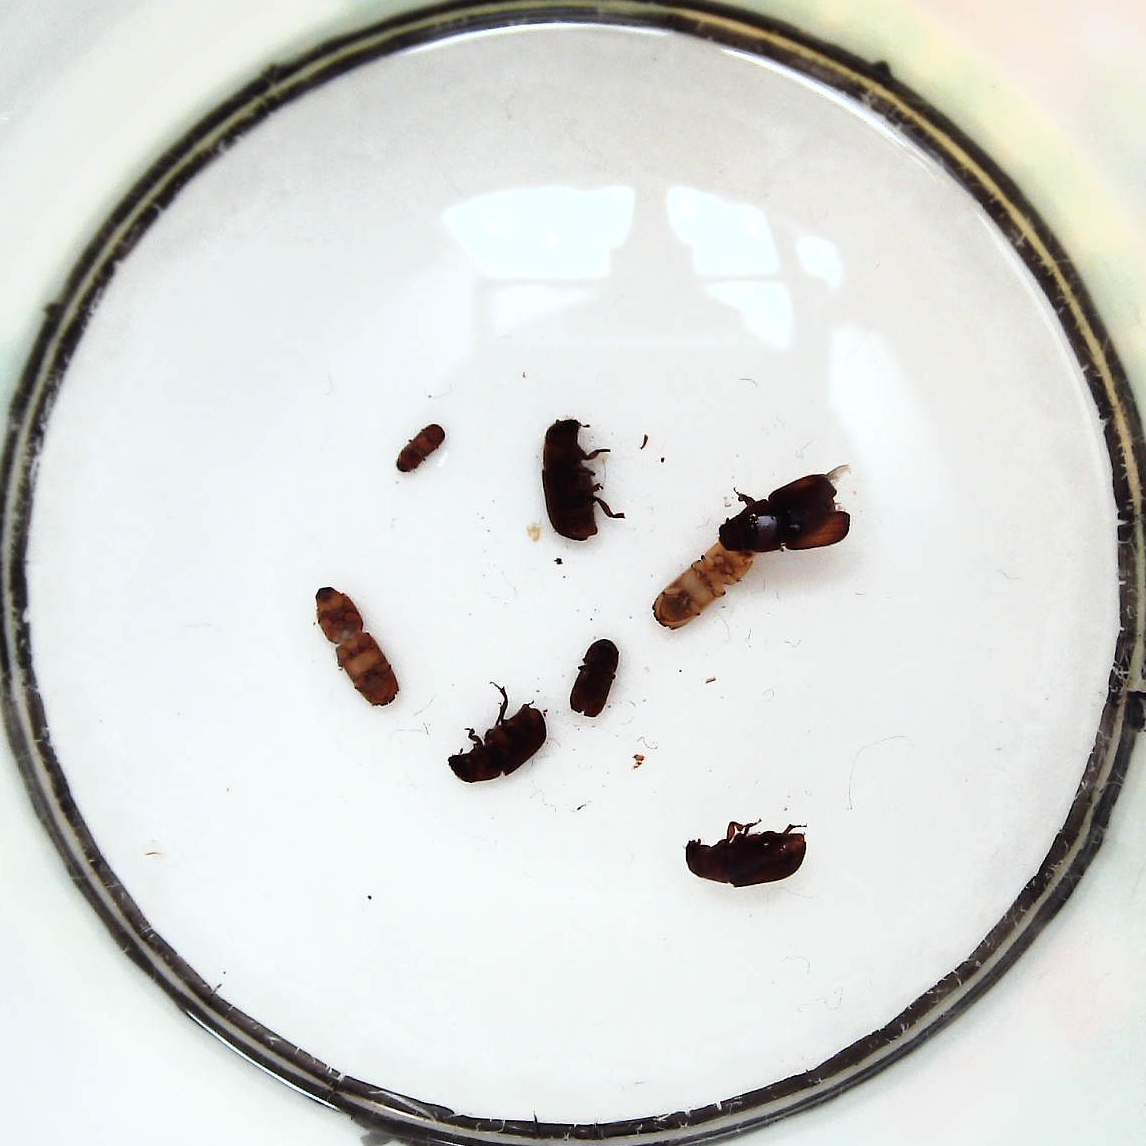Boerner: (307, 586, 410, 704), (648, 545, 761, 627)
Leconte: (538, 408, 627, 542), (718, 473, 855, 555), (446, 683, 550, 788), (682, 814, 810, 891)
Linnaeus: (571, 633, 619, 725)
acuminatus: (391, 423, 446, 477)
